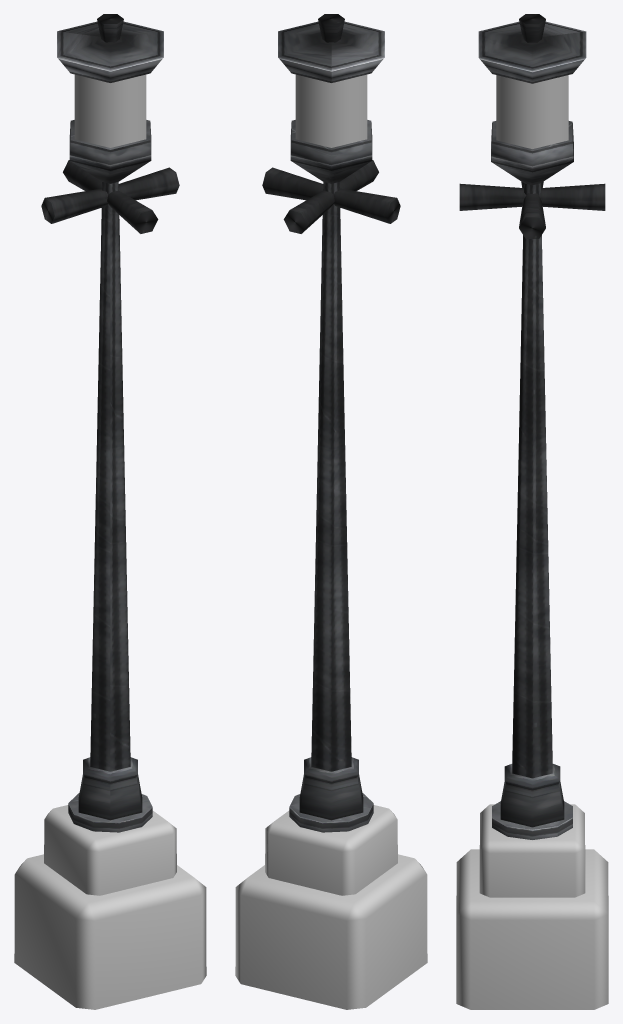
The model's file is StreetLightTall.fbx.
3 views of the same model, side by side, from view 1: azimuth 30°, elevation 25°; view 2: azimuth 150°, elevation 25°; view 3: azimuth 270°, elevation 25° (orthographic).
Visible parts, largest first — view 1: Mesh; view 2: Mesh; view 3: Mesh.
Part boxes in pixels (bbox=[...]): Mesh: bbox=[14, 14, 206, 1009]; Mesh: bbox=[235, 14, 427, 1009]; Mesh: bbox=[456, 14, 608, 1009].
Bounding box in the file's own units: 73.96 × 514 × 74.02.
